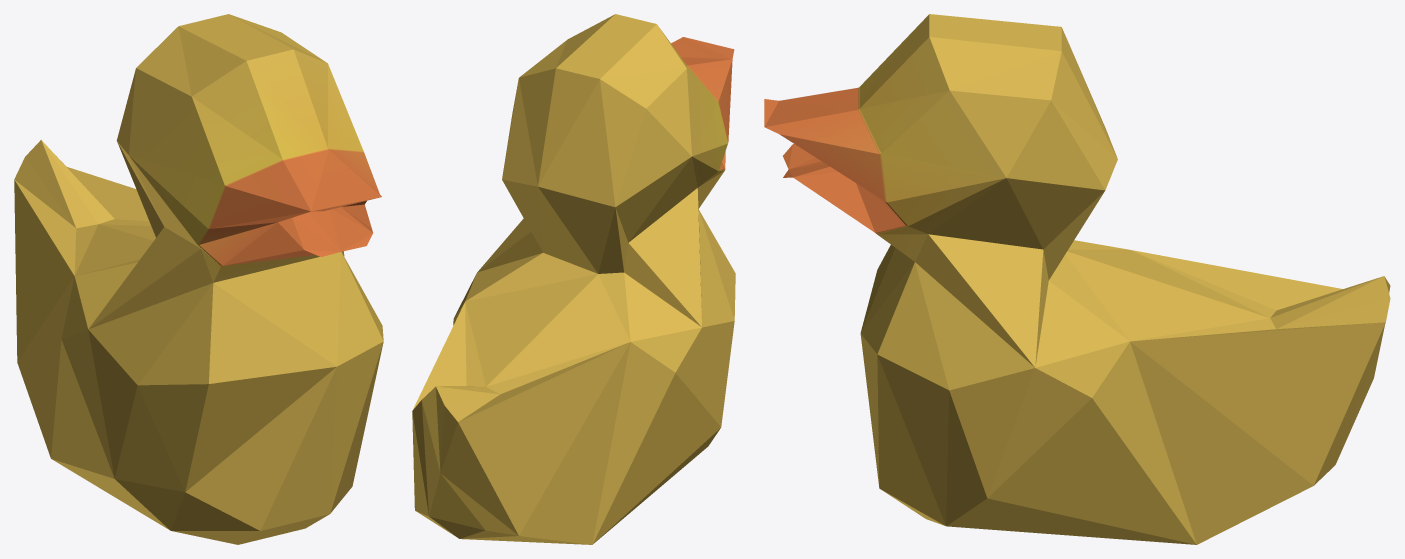
File: ducky.glb
3 renders of one model, left to right at view 1: azimuth 30°, elevation 25°; view 2: azimuth 150°, elevation 25°; view 3: azimuth 270°, elevation 25°, orthographic. The views are drawn at different scales.
Visible parts, largest first — view 1: Plane.001; view 2: Plane.001; view 3: Plane.001.
Boxes of the visible parts, x1,y1,x2,y2 form: Plane.001: (14, 14, 383, 544); Plane.001: (412, 14, 735, 544); Plane.001: (764, 14, 1390, 544).
Bounding box in the file's own units: 1.37 × 2.45 × 2.9.
